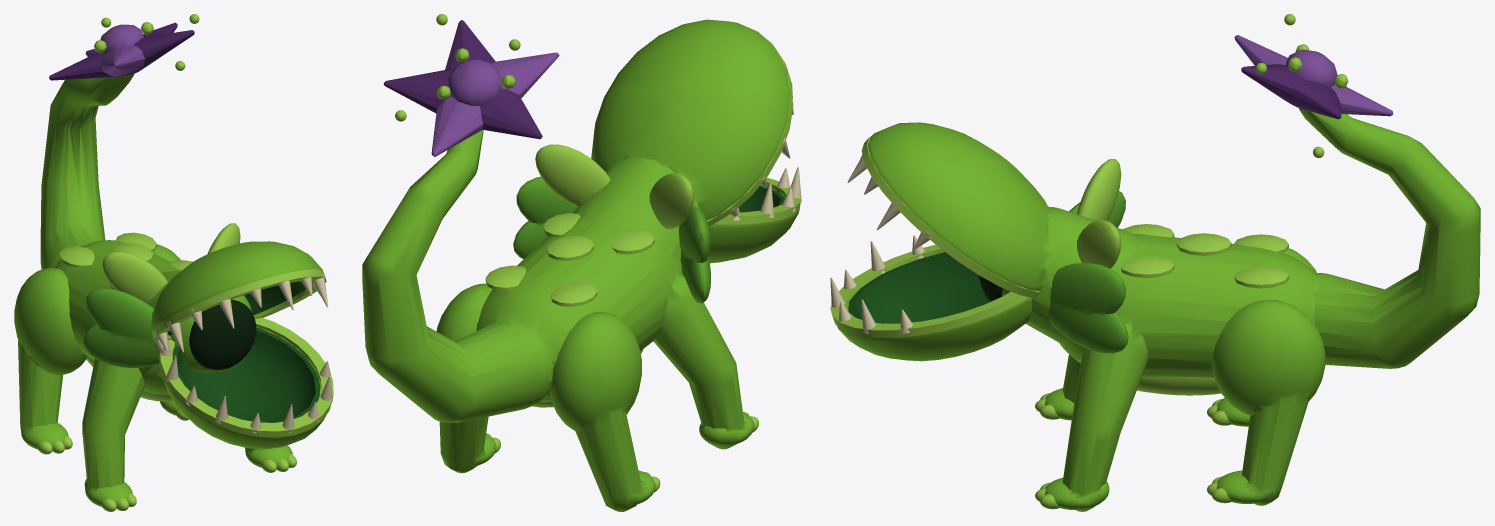
The model's file is snapling.glb.
3 views of the same model, side by side, from view 1: azimuth 30°, elevation 25°; view 2: azimuth 150°, elevation 25°; view 3: azimuth 270°, elevation 25° (orthographic). The views are drawn at different scales.
Parts seen in each view (by area): view 1: creature; view 2: creature; view 3: creature.
Boxes of the visible parts, x1,y1,x2,y2 form: creature: (14,14,333,511); creature: (362,14,801,511); creature: (830,14,1480,511).
Bounding box in the file's own units: 0.5333 × 1 × 1.29.
